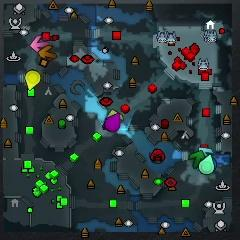p2: (198, 155, 214, 175)
p3: (104, 113, 121, 132)
p4: (25, 69, 41, 91)
x1: (30, 35, 48, 51)
x2: (107, 109, 123, 120)
x3: (199, 147, 212, 156)
x4: (190, 150, 205, 170)
x5: (38, 46, 56, 63)
